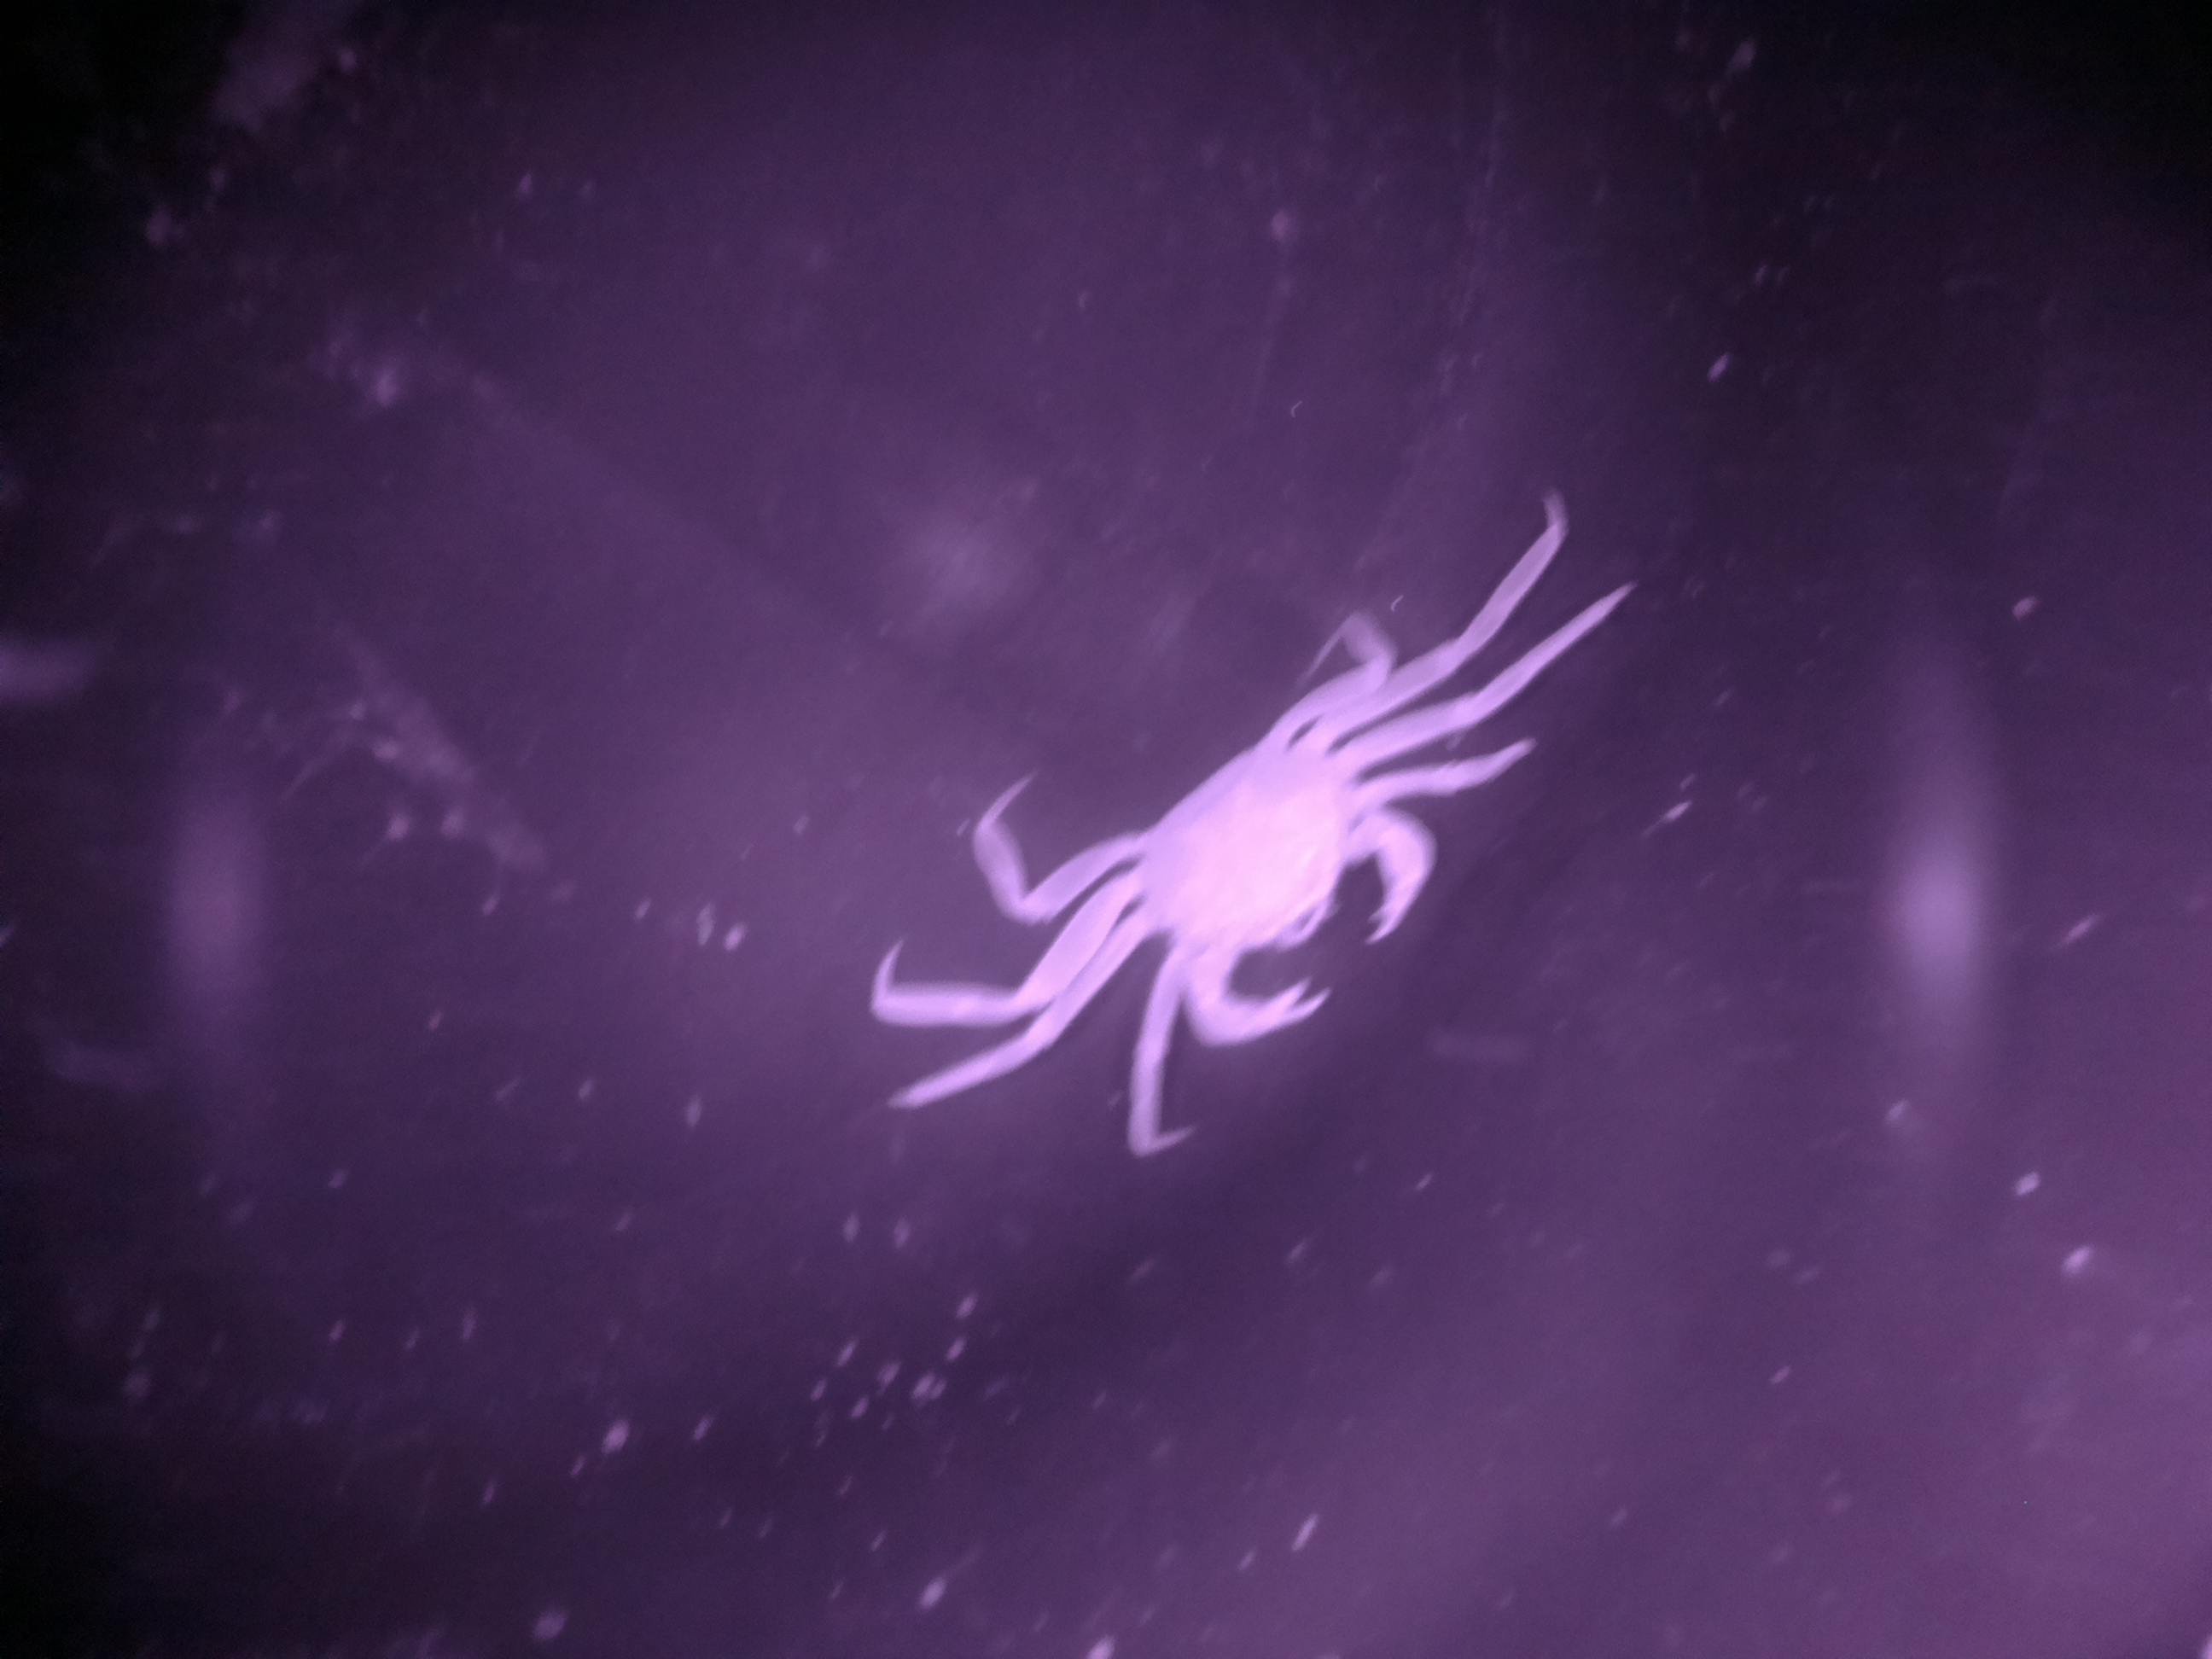Crab: (993, 523, 1521, 1183)
